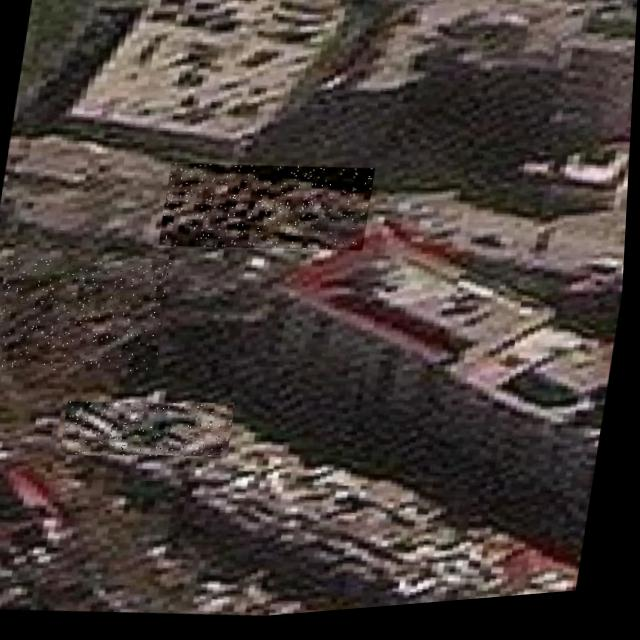Rubble: (161, 153, 378, 269), (0, 248, 176, 386), (64, 391, 240, 472)
